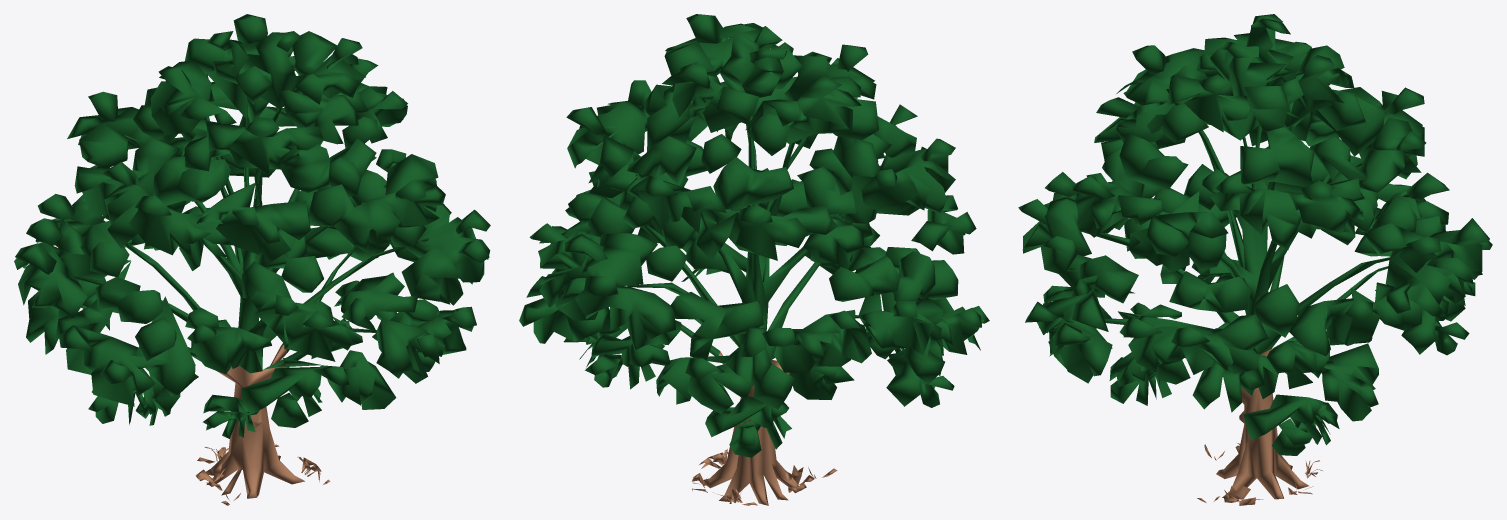
File: tree.fbx
3 renders of one model, left to right at view 1: azimuth 30°, elevation 25°; view 2: azimuth 150°, elevation 25°; view 3: azimuth 270°, elevation 25°, orthographic.
Parts seen in each view (by area): view 1: tripo_node_dc3f70a2; view 2: tripo_node_dc3f70a2; view 3: tripo_node_dc3f70a2.
Boxes of the visible parts, x1,y1,x2,y2 form: tripo_node_dc3f70a2: (14,14,490,505); tripo_node_dc3f70a2: (519,14,989,505); tripo_node_dc3f70a2: (1018,14,1492,505).
Size of the model in its own units: 96.68 by 95.12 by 99.8.
